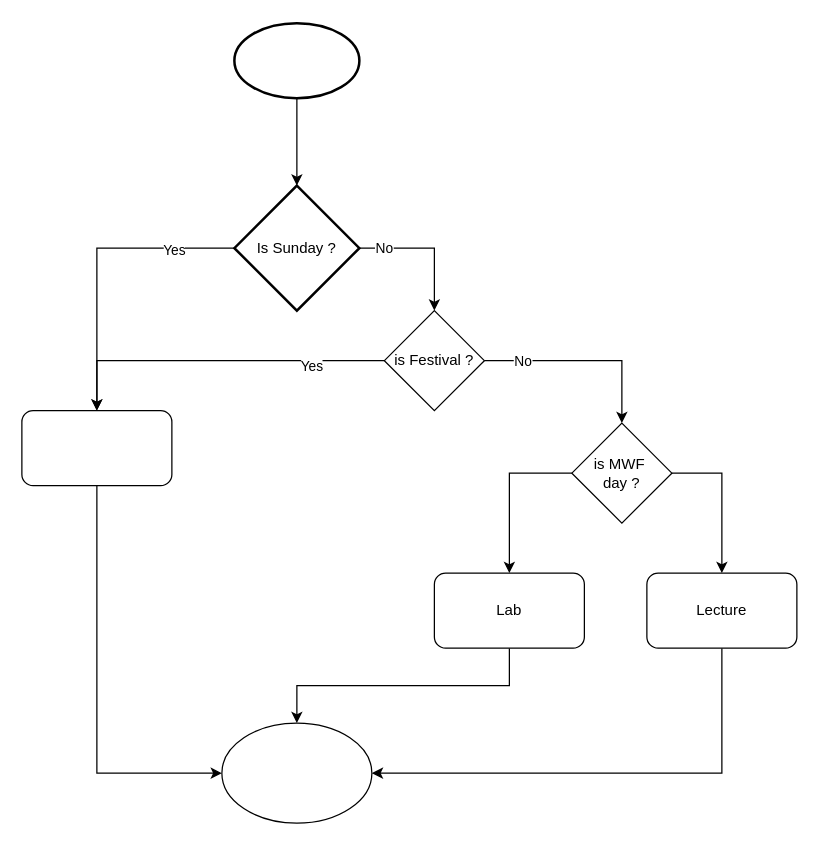
This 819x845 diagram has some shape labels left out. Each missing label, with the centre of its shape:
End: the point at 296,772
Holiday: the point at 96,447
Start: the point at 296,60
